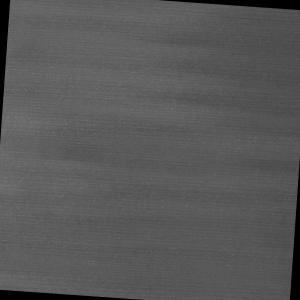Wrinkle: (1, 1, 300, 213)
